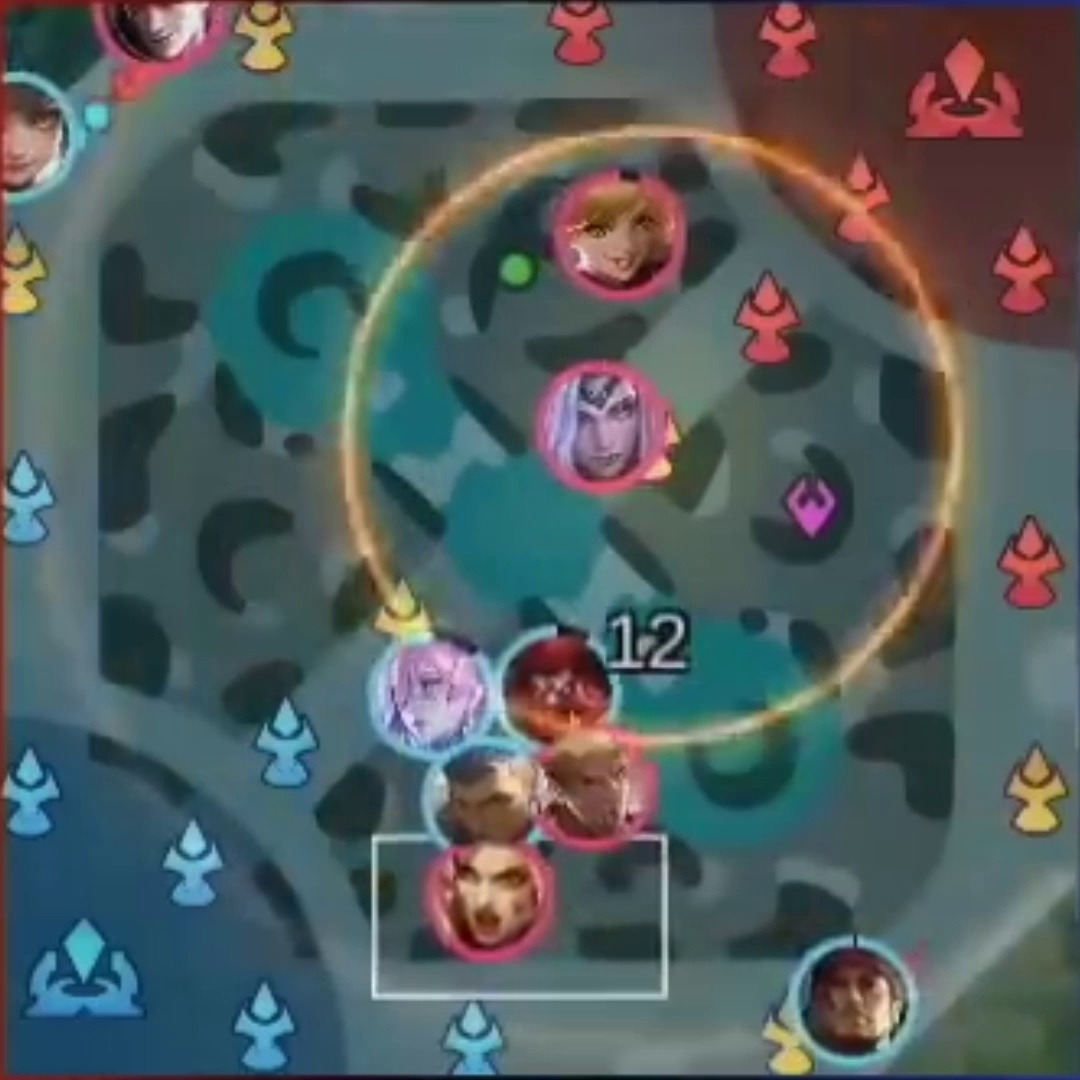Chou: (551, 743, 644, 844)
Claude: (93, 1, 213, 63)
Fanny: (566, 172, 673, 289)
Fredrinn: (441, 753, 542, 851)
Lapu-Lapu: (802, 943, 911, 1049)
Masha: (435, 856, 550, 959)
Minotaur: (508, 636, 606, 736)
Novaria: (375, 647, 483, 747)
Valentina: (544, 371, 654, 478)
Wanwan: (1, 77, 72, 193)
